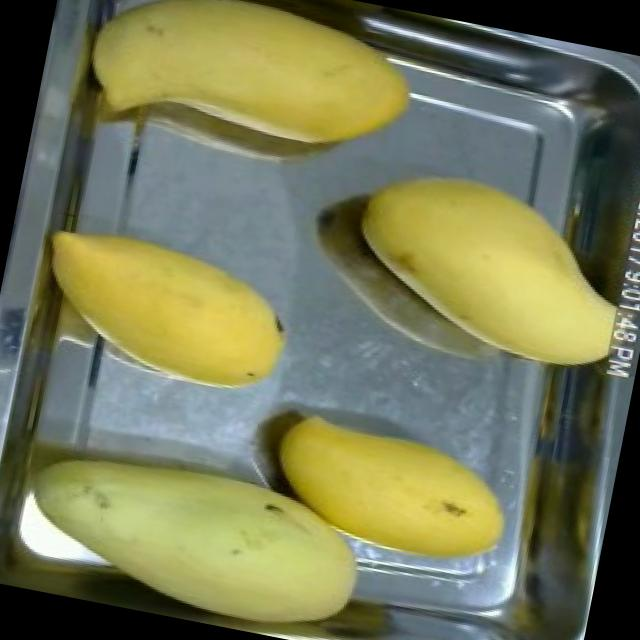fruit: (0, 402, 384, 640), (325, 147, 640, 386), (70, 0, 434, 187), (19, 210, 311, 412), (248, 393, 531, 586)
